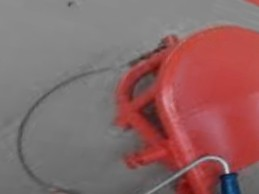chock: (62, 0, 259, 194)
